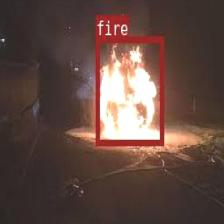fire: (95, 36, 163, 145)
